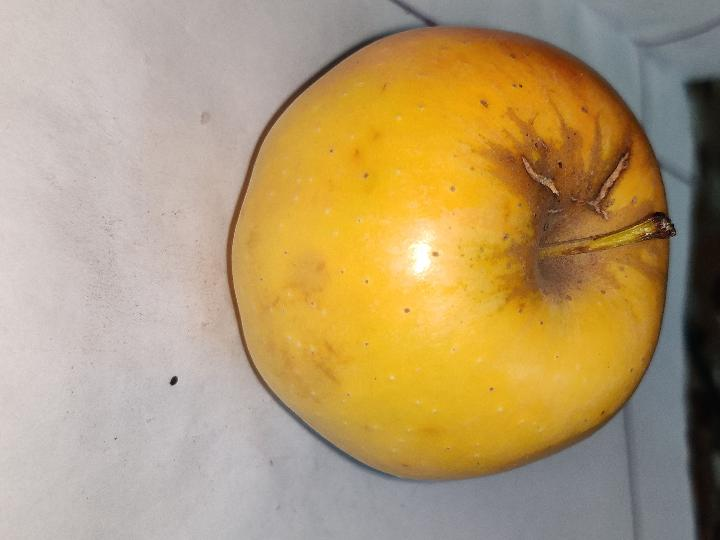apple: (232, 27, 672, 479)
bruise_discoloration: (501, 124, 640, 299)
surface_damage: (587, 150, 630, 220), (522, 156, 559, 196)
